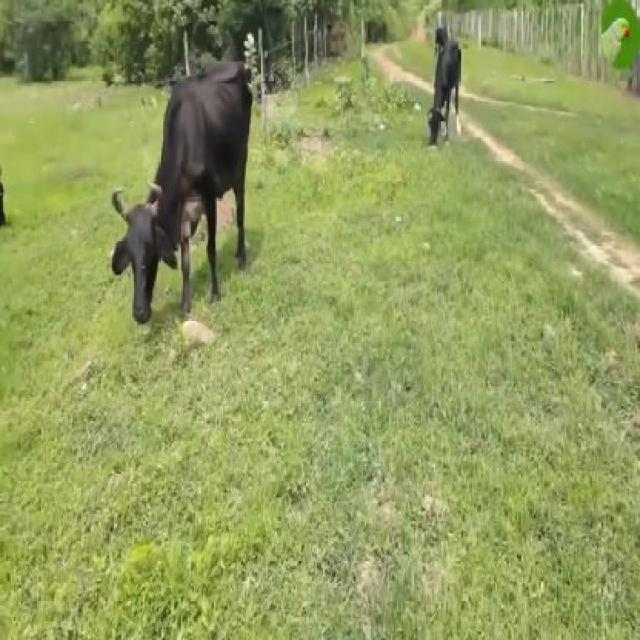Cow: (109, 60, 254, 326)
